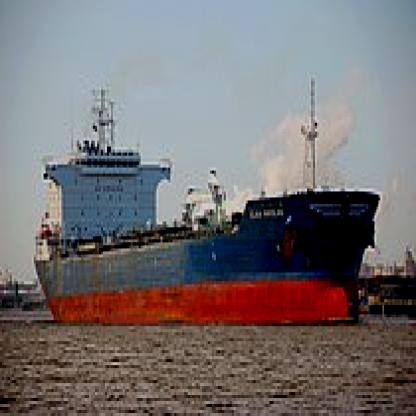Tanker: (28, 69, 394, 341)
